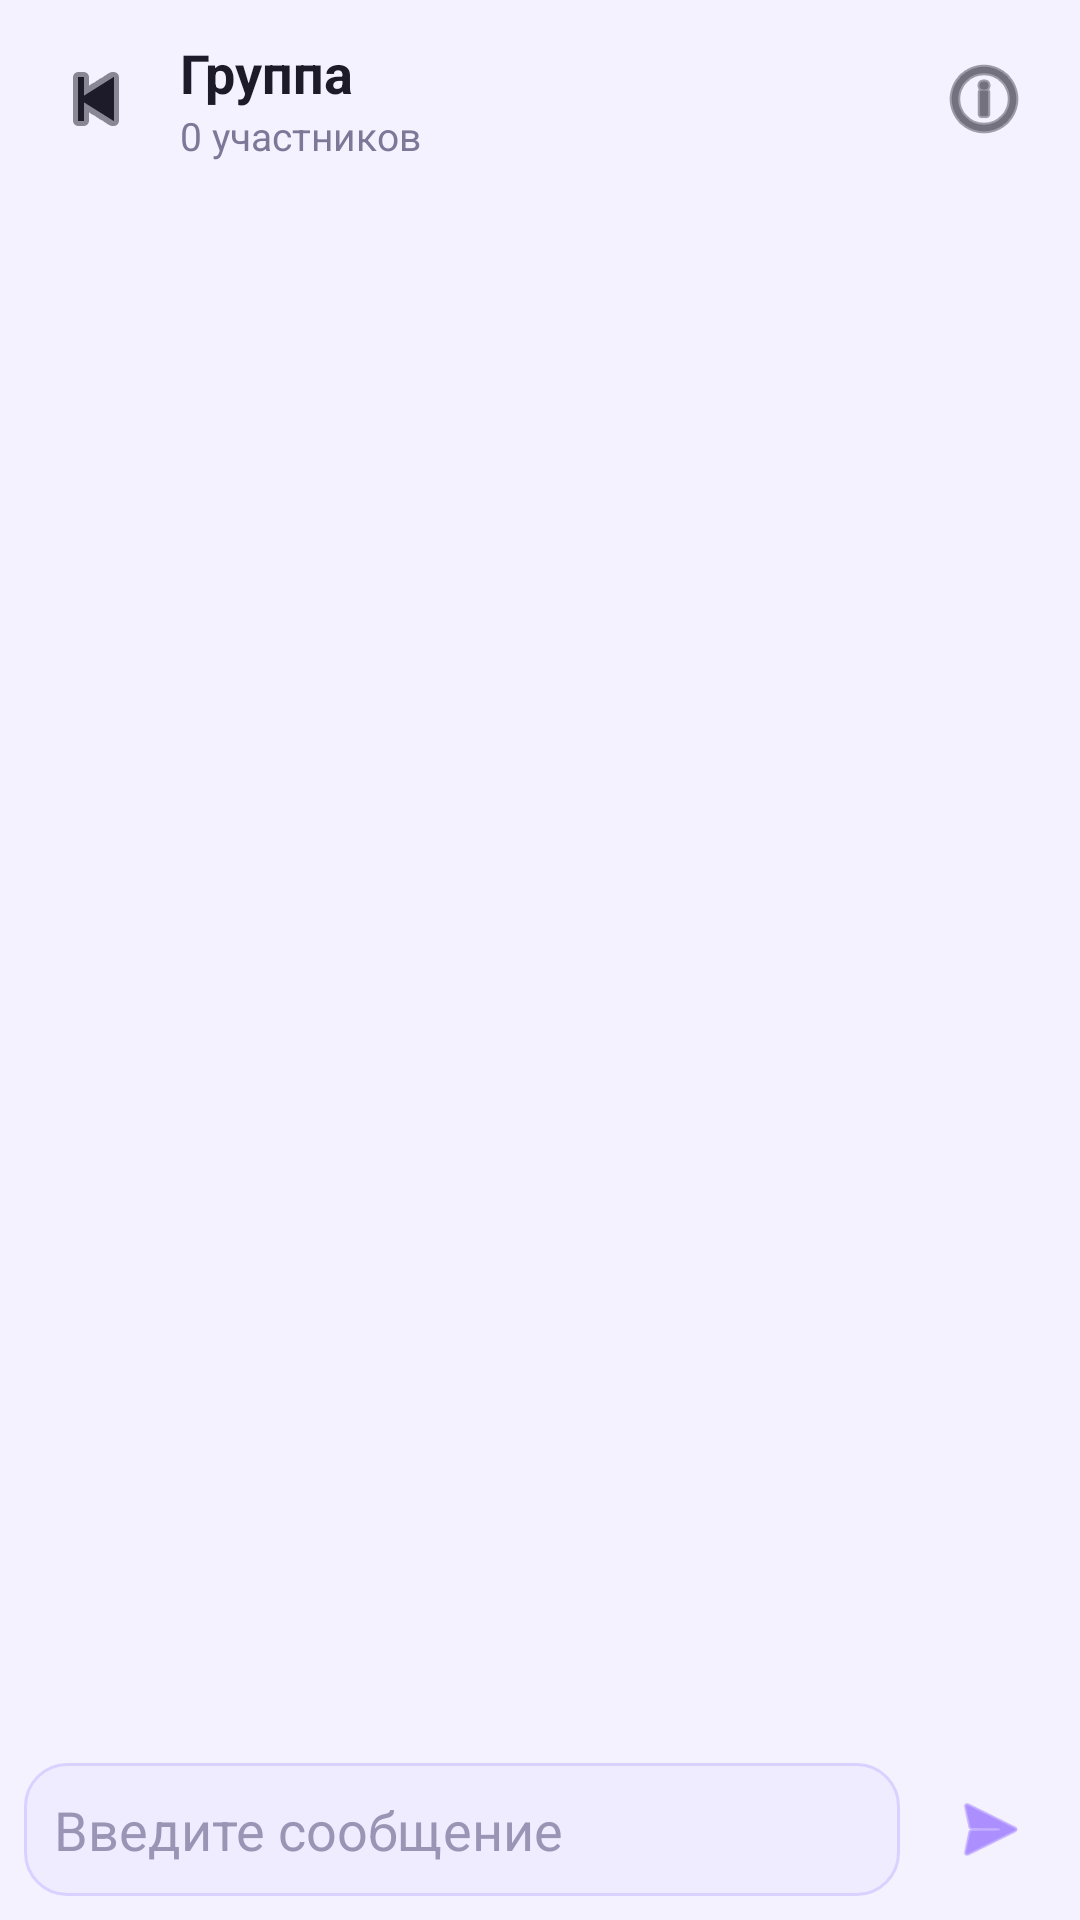

Screen size 1080 × 1920. Icon name, then its box in pixels as {"left": x1, "top": y1, "right": x2, "bottom": y2}:
Информация о группе: {"left": 949, "top": 65, "right": 1019, "bottom": 134}
Назад: {"left": 73, "top": 72, "right": 119, "bottom": 126}
Отправить: {"left": 964, "top": 1803, "right": 1017, "bottom": 1856}
